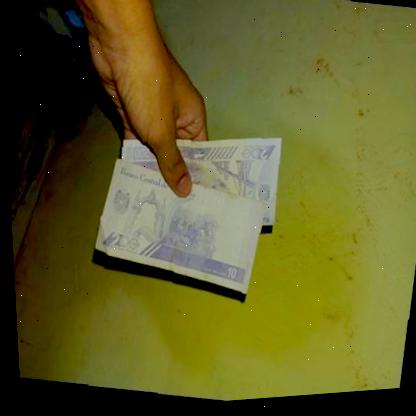ten-back-vef: (81, 149, 273, 309)
two_hundred-back-vef: (107, 112, 286, 239)
